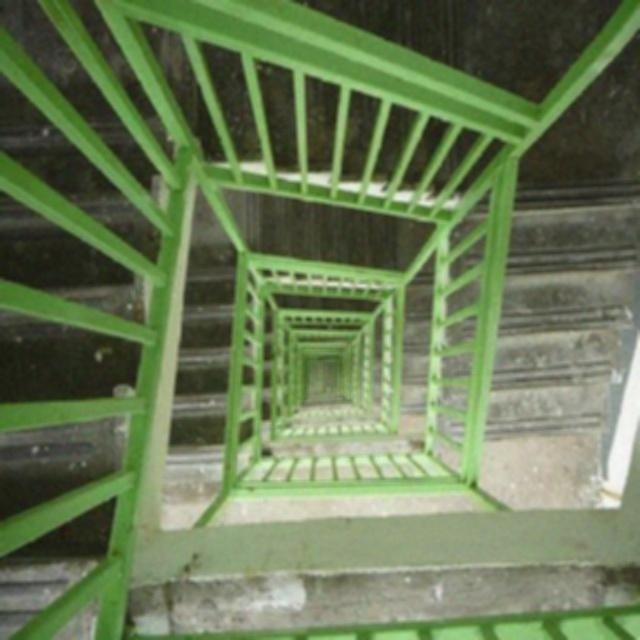stair: (20, 1, 638, 539)
